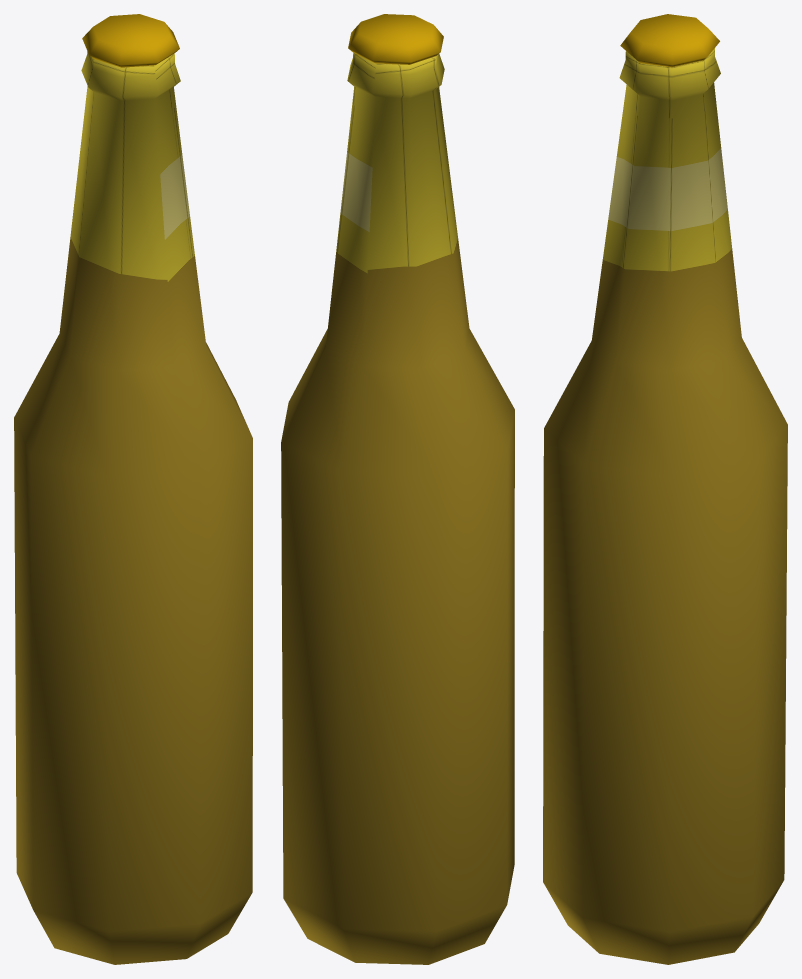
File: cevaaa.fbx
The picture shows the model from 3 angles, left to right: view 1: azimuth 30°, elevation 25°; view 2: azimuth 150°, elevation 25°; view 3: azimuth 270°, elevation 25°; orthographic projection.
Parts seen in each view (by area): view 1: BezierCurve.005; view 2: BezierCurve.005; view 3: BezierCurve.005.
Boxes of the visible parts, <box> form: BezierCurve.005: <box>14,14,252,964</box>; BezierCurve.005: <box>281,14,514,964</box>; BezierCurve.005: <box>543,14,787,964</box>.
Size of the model in its own units: 24.37 by 98.71 by 24.46.
